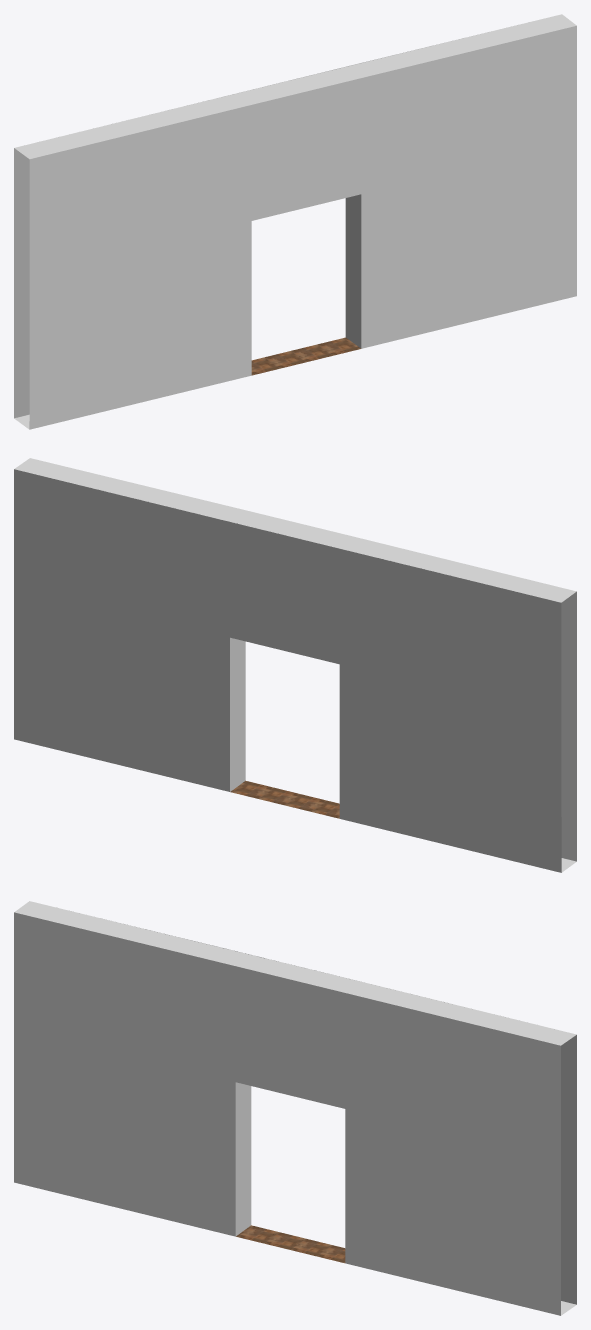
The model's file is Corridor_Opening.fbx.
3 renders of one model, top to bottom at view 1: azimuth 30°, elevation 25°; view 2: azimuth 150°, elevation 25°; view 3: azimuth 330°, elevation 25°, orthographic.
Visible parts, largest first — view 1: Classroom 1.008; view 2: Classroom 1.008; view 3: Classroom 1.008.
Boxes of the visible parts, <box> form: Classroom 1.008: <box>14,14,576,429</box>; Classroom 1.008: <box>14,458,576,872</box>; Classroom 1.008: <box>14,901,576,1315</box>.
Size of the model in its own units: 1446 by 683 by 71.25.
